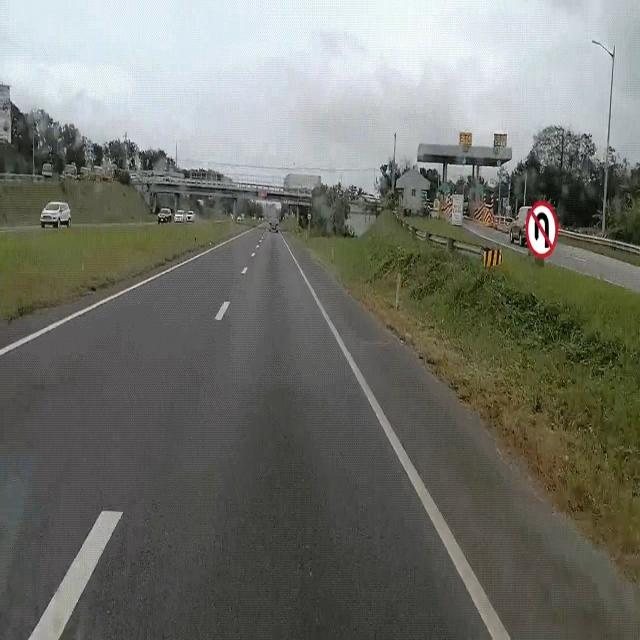Demi-Tour-Interdit: (526, 196, 560, 266)
